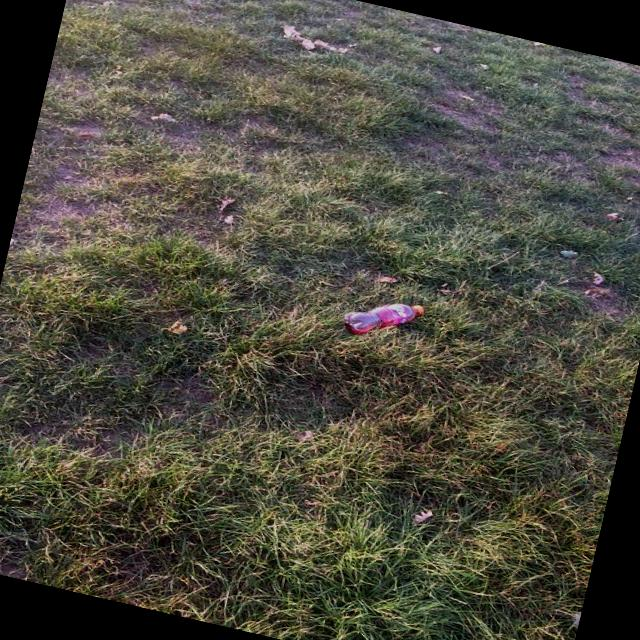Recycle: (339, 284, 430, 350)
